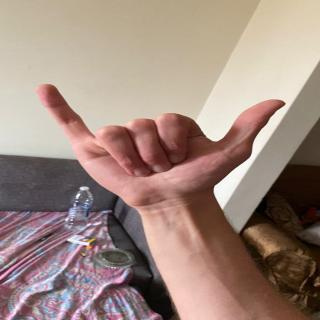YA: (29, 74, 302, 209)
